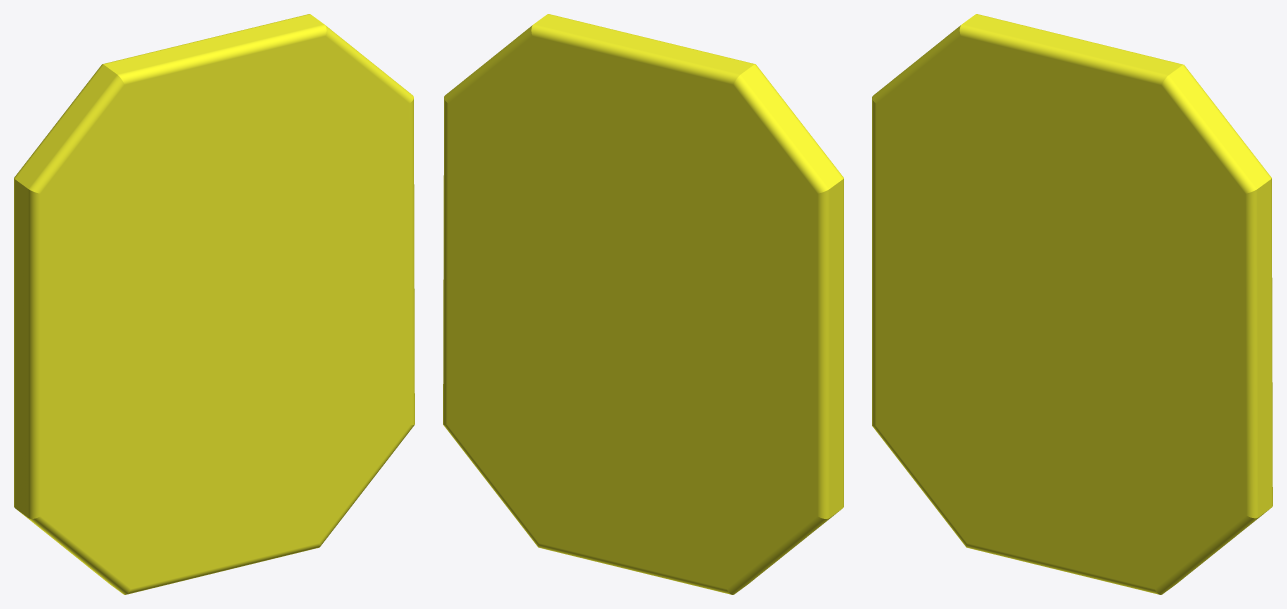
Rendered from door.glb.
3 views of the same model, side by side, from view 1: azimuth 30°, elevation 25°; view 2: azimuth 150°, elevation 25°; view 3: azimuth 330°, elevation 25° (orthographic).
Visible parts, largest first — view 1: root; view 2: root; view 3: root.
Part boxes in pixels (bbox=[...]): root: bbox=[14, 14, 414, 594]; root: bbox=[443, 14, 843, 594]; root: bbox=[872, 14, 1272, 594].
Bounding box in the file's own units: 2.02 × 2.61 × 0.2.
